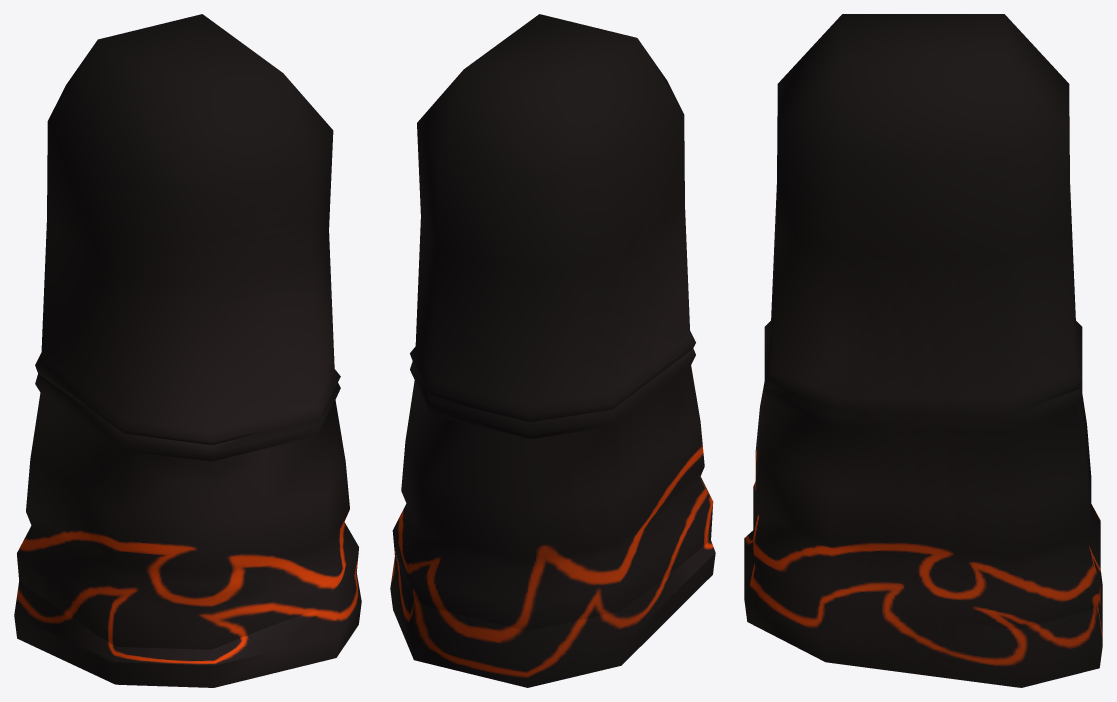
Rendered from pants R.obj.
The picture shows the model from 3 angles, left to right: view 1: azimuth 30°, elevation 25°; view 2: azimuth 150°, elevation 25°; view 3: azimuth 270°, elevation 25°; orthographic projection. The views are drawn at different scales.
Visible parts, largest first — view 1: pants_R; view 2: pants_R; view 3: pants_R.
Boxes of the visible parts, x1,y1,x2,y2 form: pants_R: (14, 14, 361, 687); pants_R: (390, 14, 715, 687); pants_R: (744, 14, 1102, 687).
Bounding box in the file's own units: 0.8543 × 1.97 × 1.06.
